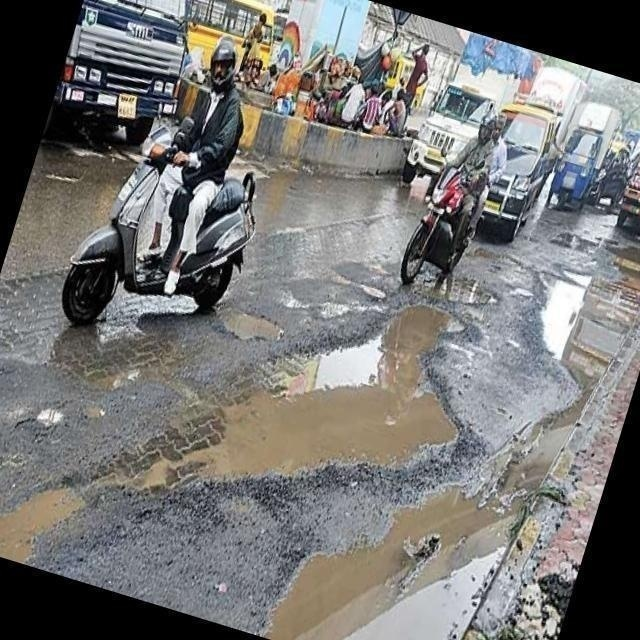pothole: (245, 302, 480, 477)
